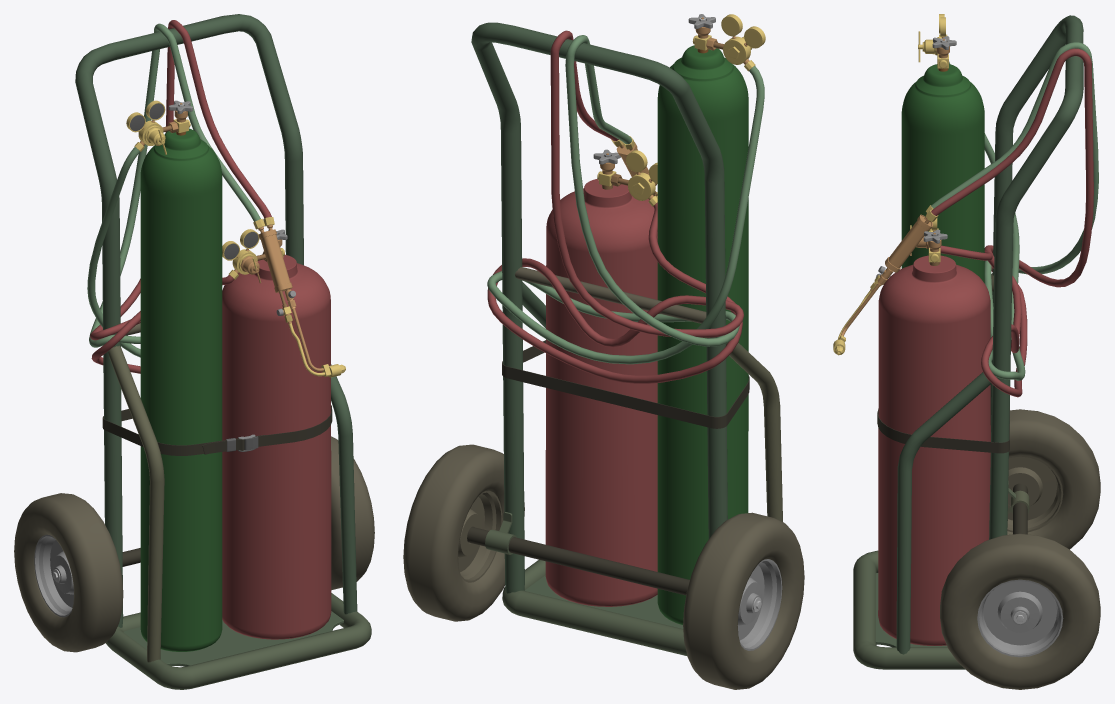
File: parts.gltf
The picture shows the model from 3 angles, left to right: view 1: azimuth 30°, elevation 25°; view 2: azimuth 150°, elevation 25°; view 3: azimuth 270°, elevation 25°; orthographic projection. The views are drawn at different scales.
Parts seen in each view (by area): view 1: portable_welding_cart; view 2: portable_welding_cart; view 3: portable_welding_cart.
Part boxes in pixels (x1,y1,x2,y2): portable_welding_cart: (14,14,374,689); portable_welding_cart: (403,14,804,689); portable_welding_cart: (833,14,1100,689).
Bounding box in the file's own units: 0.8383 × 1.56 × 0.6549.
